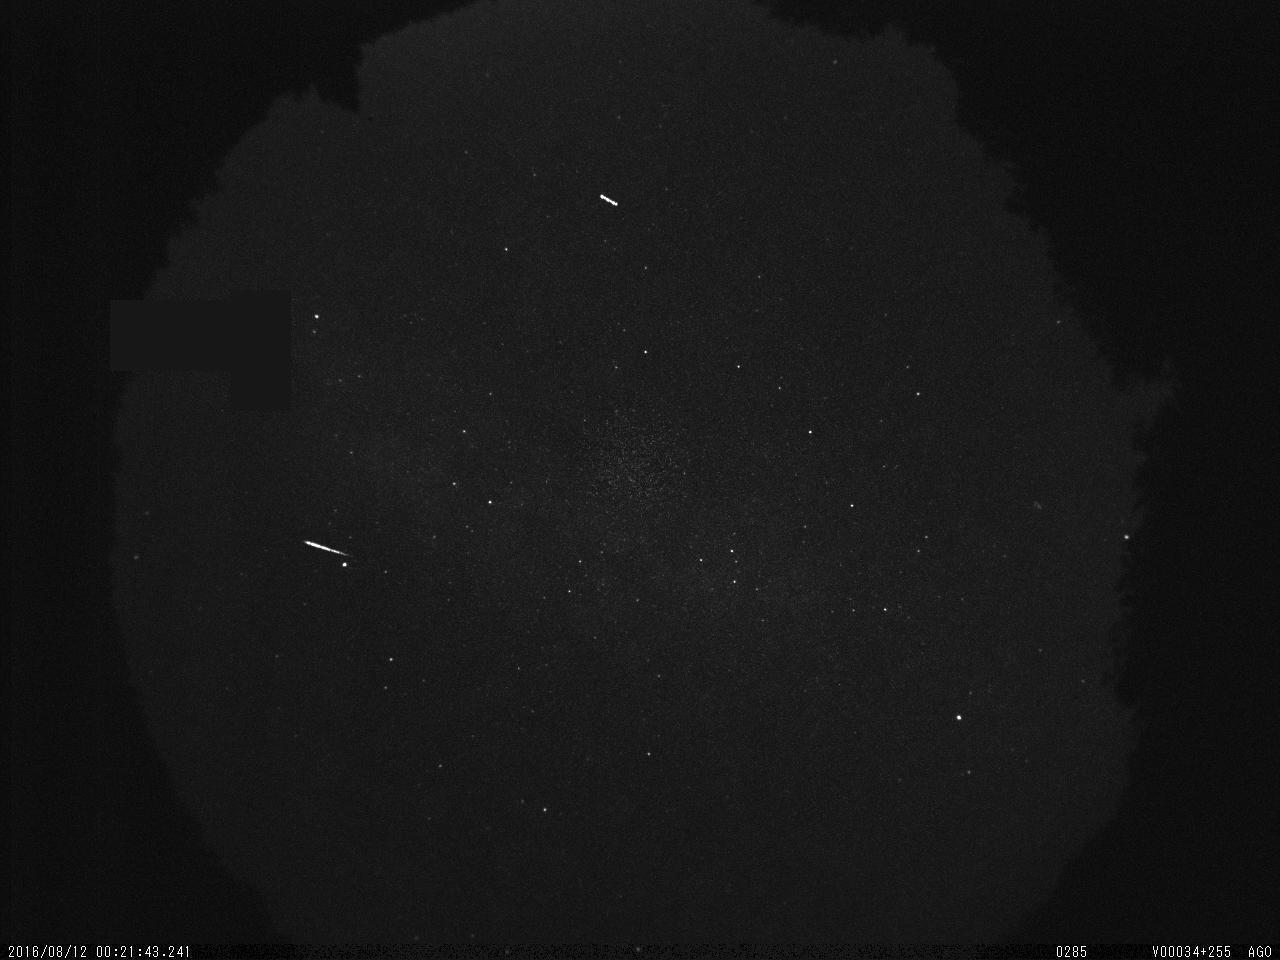meteor: (298, 532, 355, 565)
satelite: (595, 191, 626, 218)
